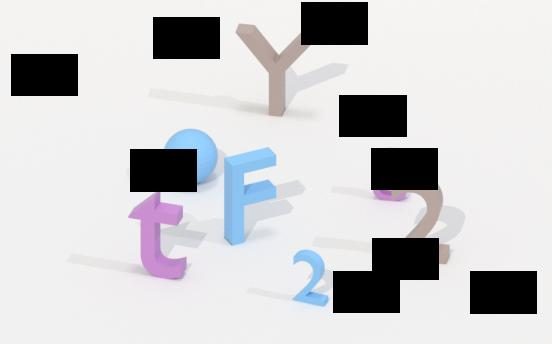2: (395, 167, 454, 274), (288, 241, 333, 318)
F: (220, 144, 286, 265)
Y-hoa: (234, 13, 323, 130)
cau: (161, 121, 221, 188)
g: (370, 143, 410, 209)
tru: (116, 182, 204, 293)
